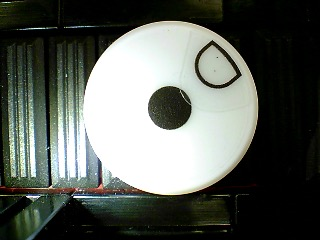BOHOMIPO1: (82, 20, 259, 195)
